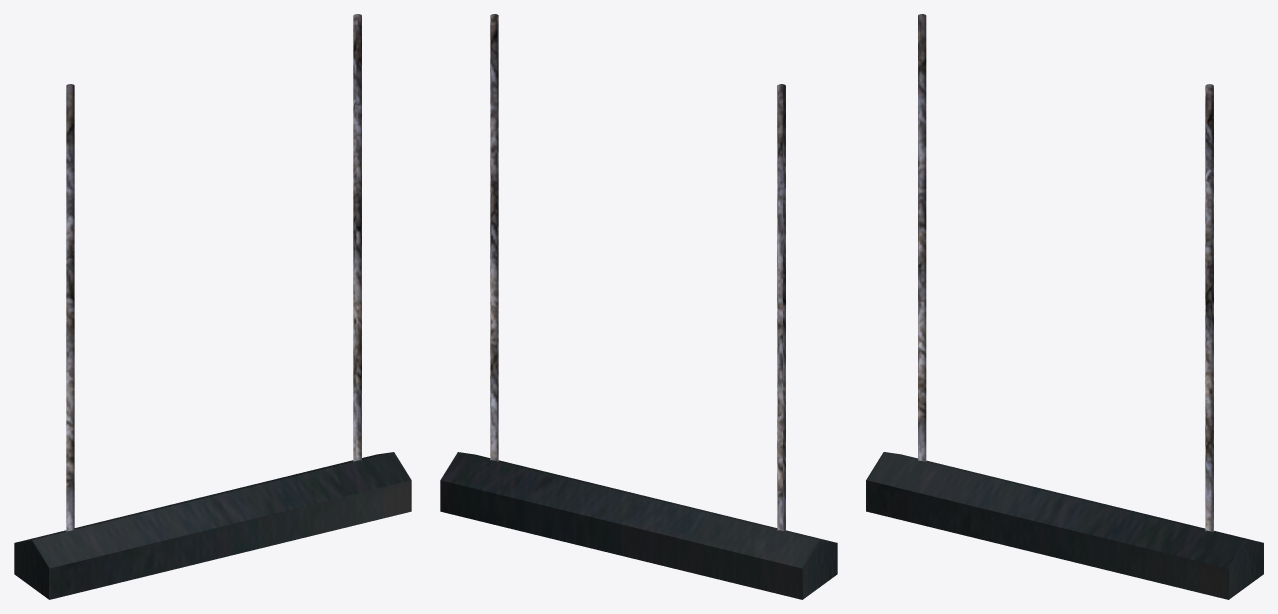
File: light_light1.glb
3 renders of one model, left to right at view 1: azimuth 30°, elevation 25°; view 2: azimuth 150°, elevation 25°; view 3: azimuth 330°, elevation 25°, orthographic.
Parts seen in each view (by area): view 1: Cube; view 2: Cube; view 3: Cube.
Part boxes in pixels (x1,y1,x2,y2): Cube: (14, 14, 411, 599); Cube: (440, 14, 837, 599); Cube: (866, 14, 1263, 599).
Bounding box in the file's own units: 2.38 × 3.09 × 0.4.
Materials: 3 (3 with a texture image).
